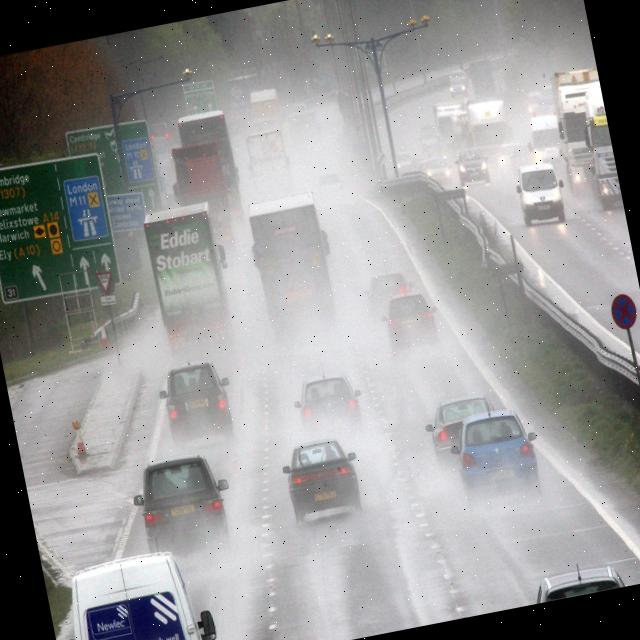bus: (242, 185, 351, 368), (139, 194, 244, 363), (165, 138, 242, 282), (176, 111, 249, 258), (549, 68, 598, 202), (580, 88, 624, 212), (244, 127, 297, 210), (466, 94, 516, 178), (288, 104, 334, 192), (528, 111, 572, 189), (434, 100, 474, 170), (250, 86, 287, 155)
car: (51, 542, 221, 640), (130, 449, 235, 562), (278, 432, 366, 529), (448, 406, 540, 492), (158, 356, 235, 438), (292, 372, 367, 452), (379, 288, 445, 362), (424, 394, 498, 458), (512, 159, 568, 228), (360, 265, 418, 320), (454, 144, 491, 186), (314, 171, 351, 206), (496, 138, 527, 173), (424, 150, 453, 185), (146, 112, 170, 150), (392, 148, 417, 176)
